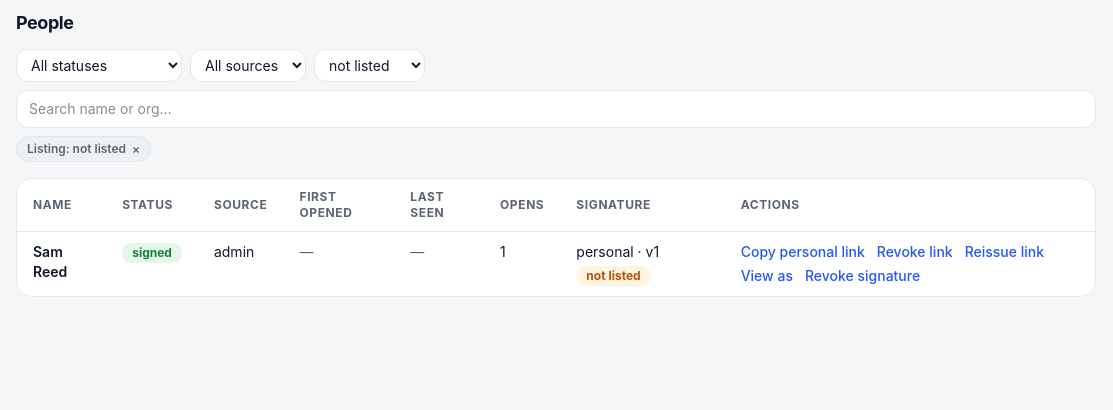
Test: PeopleScreen — the listing choice › reads the listing filter from the URL, narrows the table, and offers a chip to clear it
Expected: the text "Sam Reed" is shown, [17, 232, 106, 296]
Expected: the text "Jane Doe" is not shown
Click the button "Listing: not listed ×".
click(84, 149)  # box [16, 136, 151, 162]
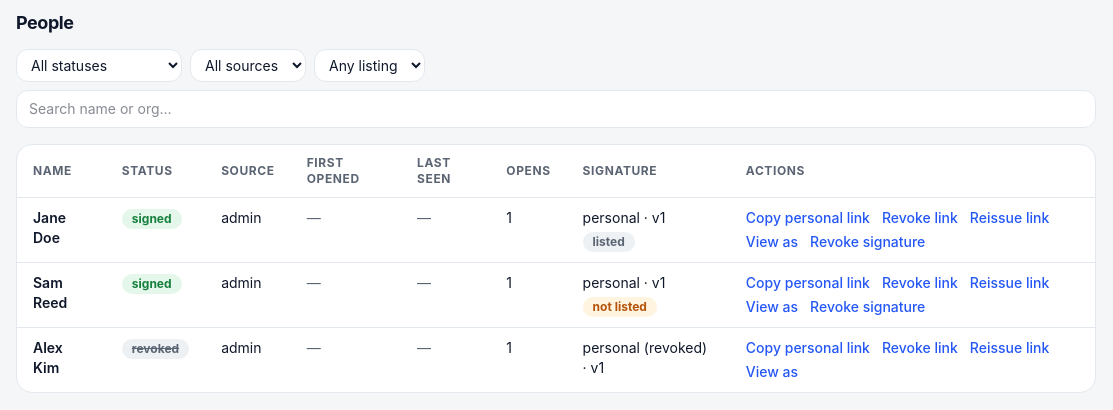
Now the text "Jane Doe" is shown, box [17, 198, 106, 262]
